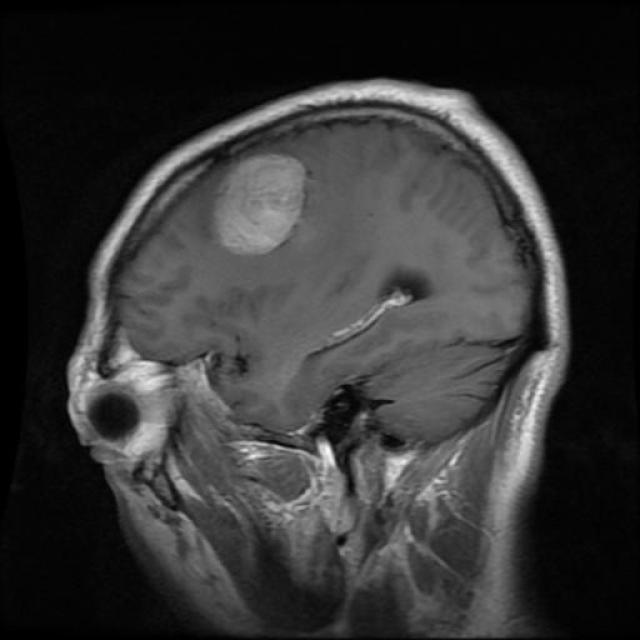meningioma: (212, 156, 305, 256)
